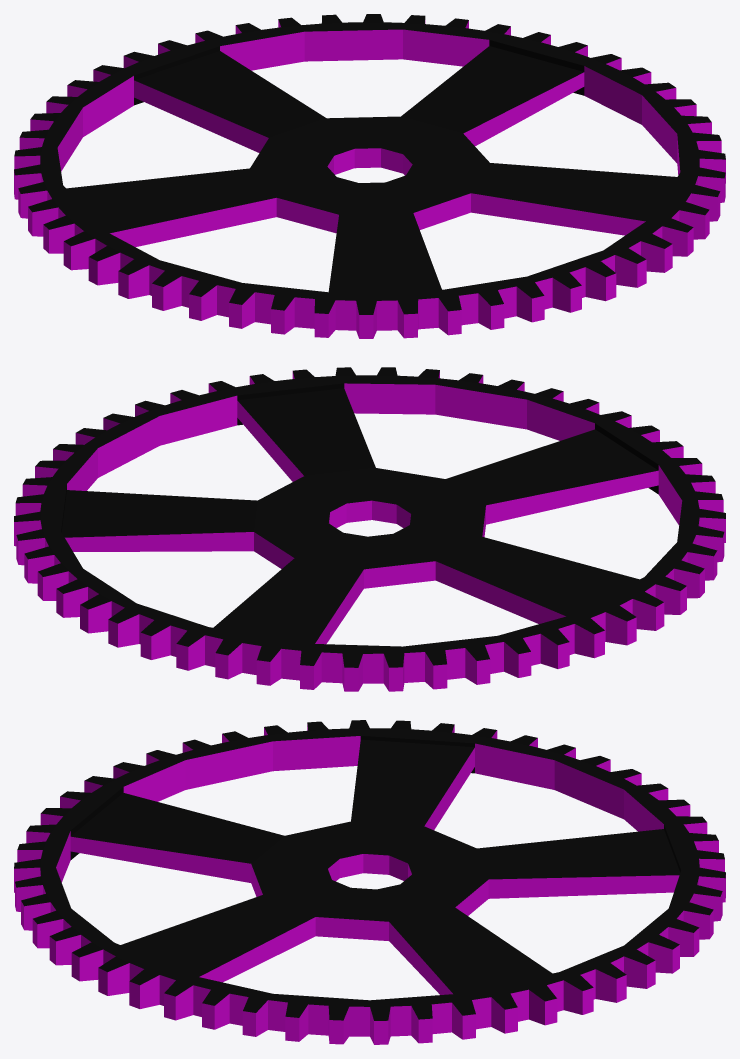
The model's file is D5GearV2.fbx.
3 views of the same model, one above another, from view 1: azimuth 30°, elevation 25°; view 2: azimuth 150°, elevation 25°; view 3: azimuth 270°, elevation 25° (orthographic).
Visible parts, largest first — view 1: D5GearV2; view 2: D5GearV2; view 3: D5GearV2.
Boxes of the visible parts, x1,y1,x2,y2 form: D5GearV2: [14, 14, 725, 338]; D5GearV2: [14, 367, 725, 691]; D5GearV2: [14, 720, 725, 1044].
Size of the model in its own units: 10.8 by 0.5 by 10.8.
